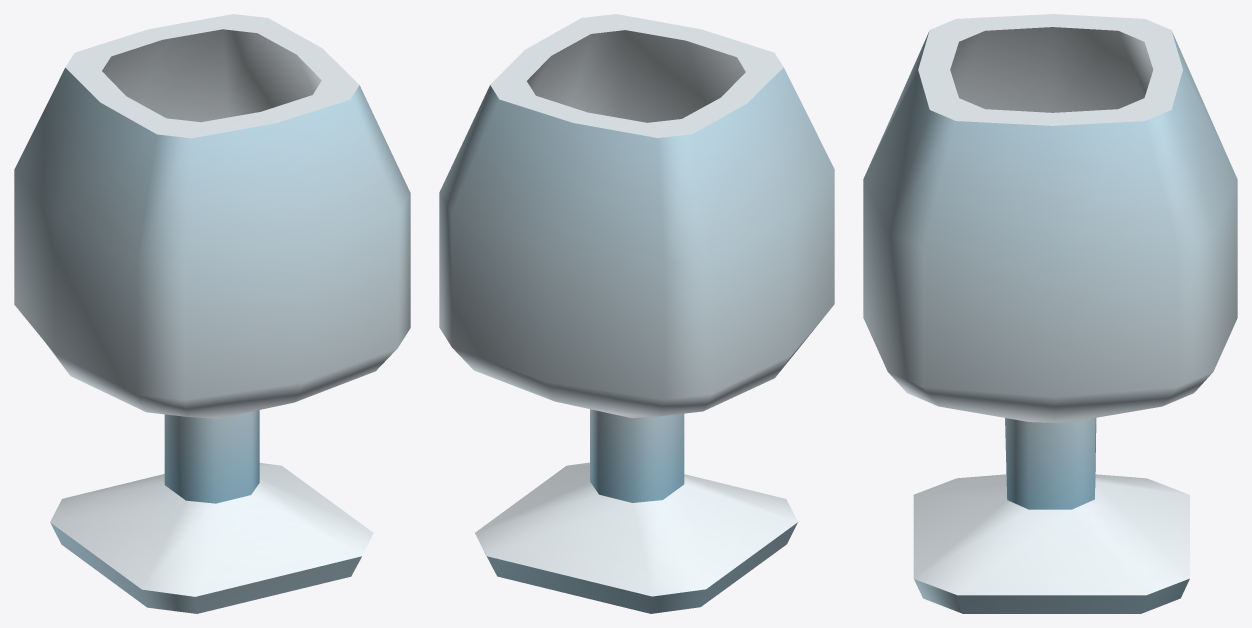
Rendered from glass_wine.fbx.
3 renders of one model, left to right at view 1: azimuth 30°, elevation 25°; view 2: azimuth 150°, elevation 25°; view 3: azimuth 270°, elevation 25°, orthographic. The views are drawn at different scales.
Parts seen in each view (by area): view 1: glass_wine; view 2: glass_wine; view 3: glass_wine.
Boxes of the visible parts, x1=… form: glass_wine: x1=14, y1=14, x2=410, y2=613; glass_wine: x1=439, y1=14, x2=834, y2=613; glass_wine: x1=863, y1=14, x2=1237, y2=613.
Bounding box in the file's own units: 24.13 × 34.9 × 24.16.
